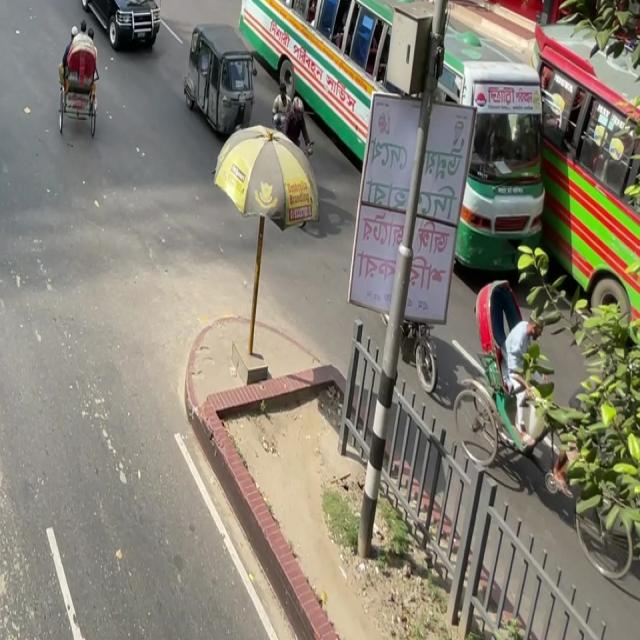bus: (243, 0, 543, 258)
car: (71, 0, 168, 53)
motorbike: (267, 70, 314, 162)
rickshaw: (177, 12, 266, 148)
